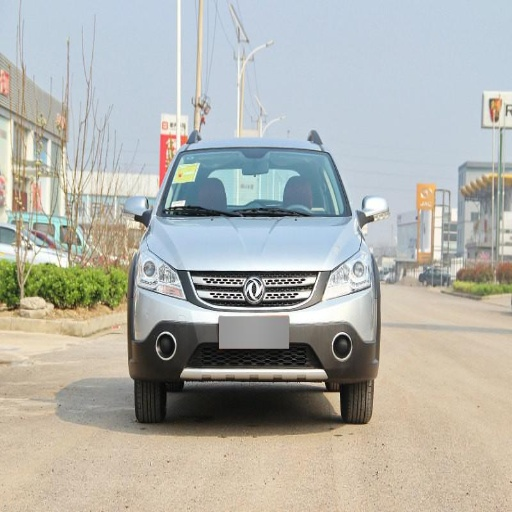front_bumper: (131, 270, 378, 389)
front_right_light: (136, 253, 186, 298)
hood: (148, 217, 361, 271)
